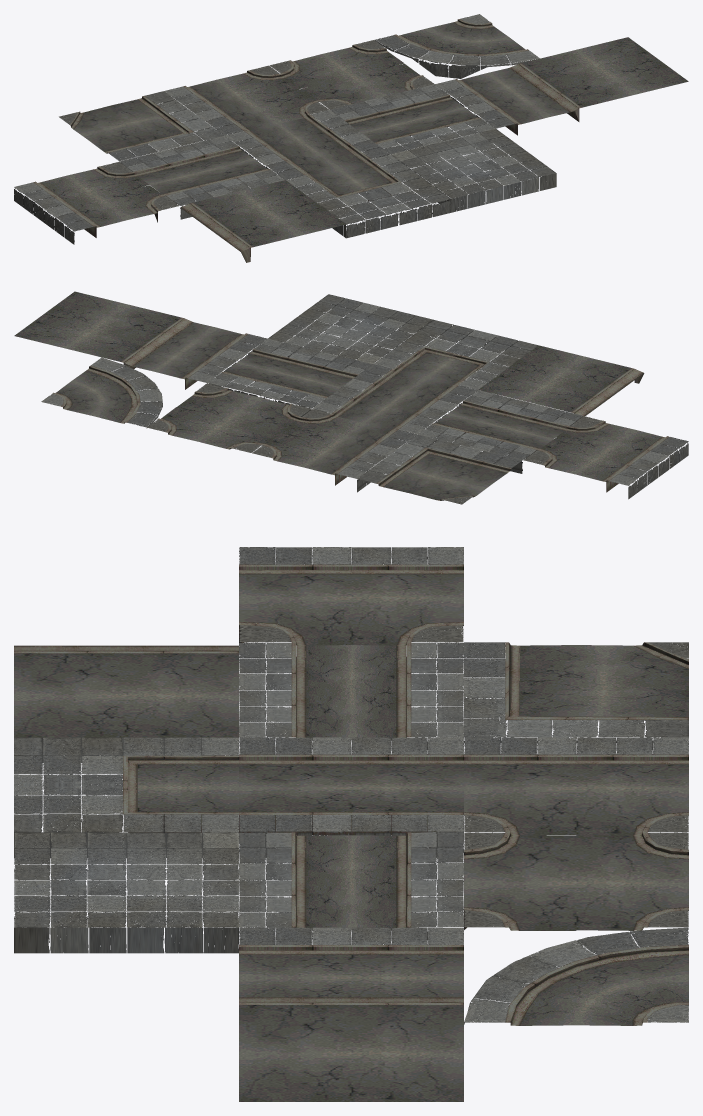
File: NF_Roads_V_0.1.fbx
3 renders of one model, top to bottom at view 1: azimuth 30°, elevation 25°; view 2: azimuth 150°, elevation 25°; view 3: azimuth 270°, elevation 25°, orthographic. The views are drawn at different scales.
Visible parts, largest first — view 1: Road T Junction Transition Narrow, Road Carpark, Road Paving, Road Dead End, Road CarPark Entry, Road Straight, Road Straight Narrow, Road Corner Hard, Road T Junction, Road Cross, Road Corner Soft; view 2: Road T Junction Transition Narrow, Road Carpark, Road Corner Hard, Road CarPark Entry, Road T Junction, Road Dead End, Road Straight, Road Paving, Road Straight Narrow, Road Cross, Road Corner Soft; view 3: Road T Junction Transition Narrow, Road Carpark, Road Paving, Road Straight, Road Dead End, Road T Junction, Road Cross, Road Straight Narrow, Road Corner Hard, Road CarPark Entry, Road Corner Soft.
Boxes of the visible parts, x1=… form: Road T Junction Transition Narrow: x1=14, y1=135, x2=284, y2=244; Road Carpark: x1=436, y1=37, x2=688, y2=135; Road Paving: x1=391, y1=129, x2=556, y2=212; Road Dead End: x1=286, y1=154, x2=451, y2=238; Road CarPark Entry: x1=180, y1=180, x2=345, y2=262; Road Straight: x1=225, y1=109, x2=389, y2=185; Road Straight Narrow: x1=330, y1=84, x2=495, y2=154; Road Corner Hard: x1=59, y1=91, x2=223, y2=161; Road T Junction: x1=164, y1=65, x2=328, y2=140; Road Cross: x1=270, y1=40, x2=433, y2=109; Road Corner Soft: x1=375, y1=14, x2=539, y2=78; Road T Junction Transition Narrow: x1=418, y1=390, x2=688, y2=499; Road Carpark: x1=14, y1=291, x2=267, y2=389; Road Corner Hard: x1=357, y1=434, x2=522, y2=504; Road CarPark Entry: x1=478, y1=345, x2=644, y2=423; Road T Junction: x1=252, y1=409, x2=416, y2=492; Road Dead End: x1=374, y1=320, x2=538, y2=393; Road Straight: x1=312, y1=364, x2=477, y2=434; Road Paving: x1=268, y1=294, x2=433, y2=374; Road Straight Narrow: x1=207, y1=338, x2=372, y2=416; Road Cross: x1=147, y1=383, x2=311, y2=452; Road Corner Soft: x1=41, y1=357, x2=162, y2=428; Road T Junction Transition Narrow: x1=239, y1=547, x2=463, y2=740; Road Carpark: x1=239, y1=927, x2=463, y2=1101; Road Paving: x1=14, y1=832, x2=238, y2=953; Road Straight: x1=239, y1=737, x2=463, y2=857; Road Dead End: x1=14, y1=737, x2=238, y2=857; Road T Junction: x1=464, y1=737, x2=688, y2=835; Road Cross: x1=464, y1=832, x2=688, y2=930; Road Straight Narrow: x1=239, y1=831, x2=463, y2=930; Road Corner Hard: x1=464, y1=642, x2=688, y2=743; Road CarPark Entry: x1=14, y1=645, x2=238, y2=737; Road Corner Soft: x1=464, y1=927, x2=688, y2=1025.
Size of the model in its own units: 3500 by 78.55 by 1800.
